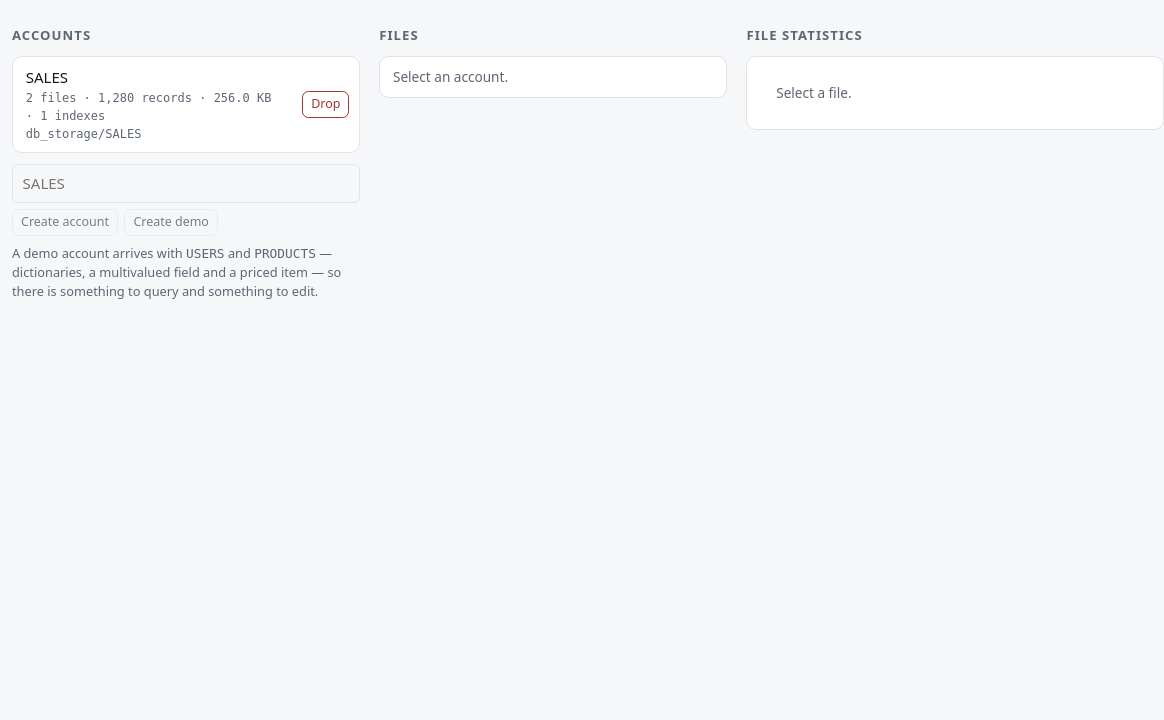
Test: the accounts view › drills from an account to its files to one file's statistics
Click the button with class "select".
click(154, 105)  # box [13, 58, 296, 152]
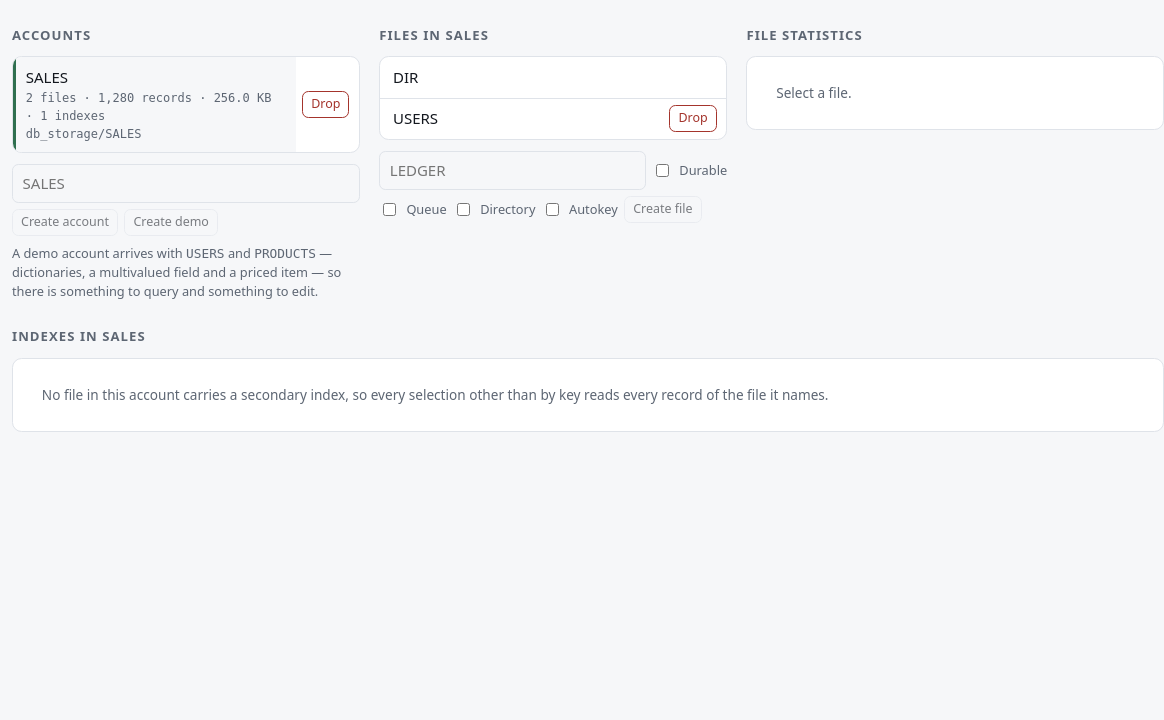
expect the text "USERS" is shown: met, box [186, 246, 224, 261]
expect the text "Files in SALES" is shown: met, box [379, 26, 489, 44]
Click the button with class "select" showing "USERS".
click(416, 118)  # box [380, 99, 663, 139]
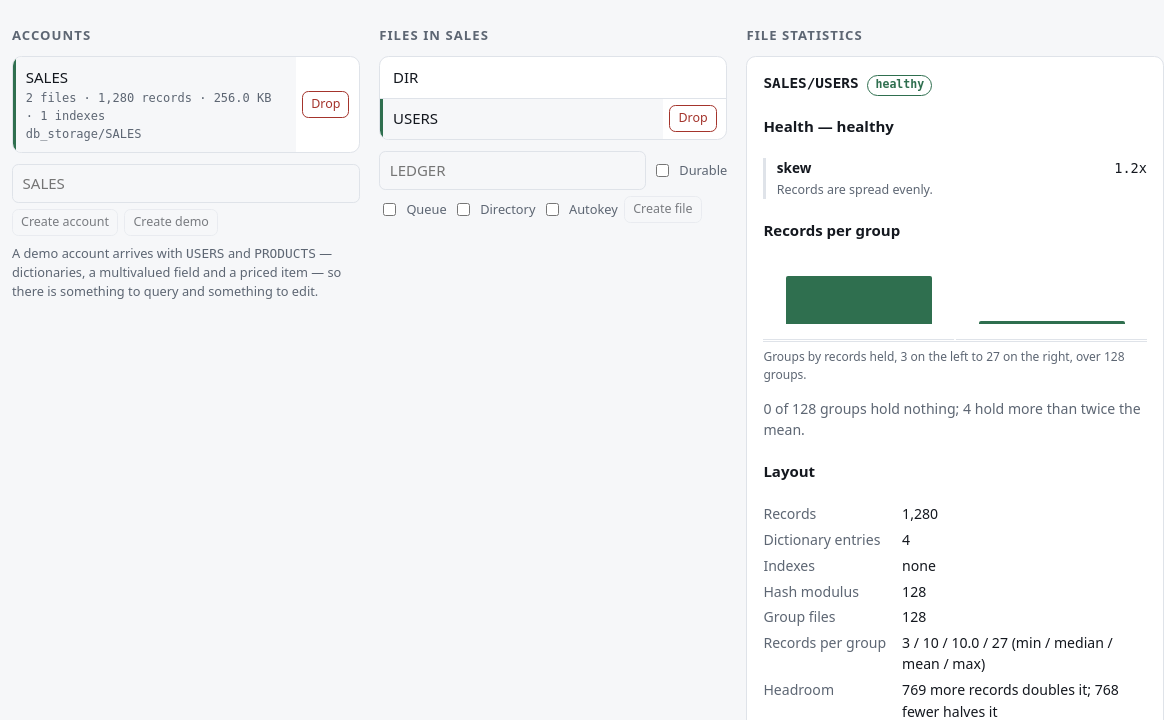
expect the text "SALES/USERS" is shown: met, box [763, 76, 867, 92]
expect the text "Hash modulus" is shown: met, box [763, 582, 859, 601]
expect the text "128" is shown: met, box [763, 348, 1125, 383]
